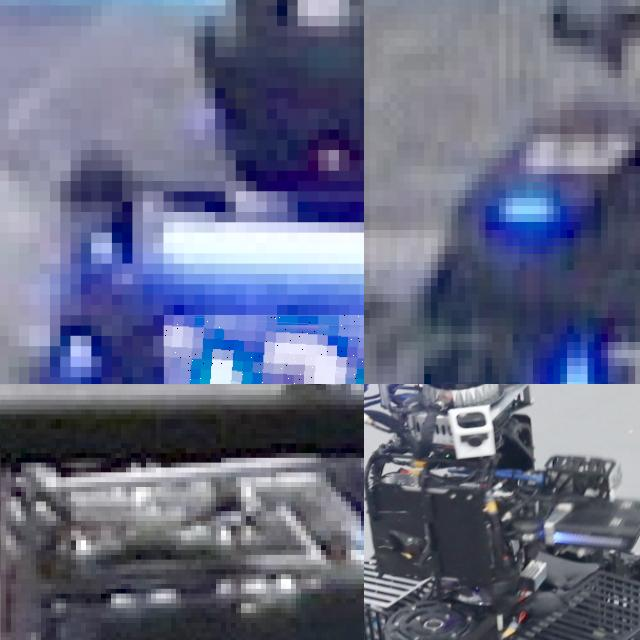B3: (485, 94, 640, 222), (163, 315, 364, 384), (560, 326, 640, 384)
